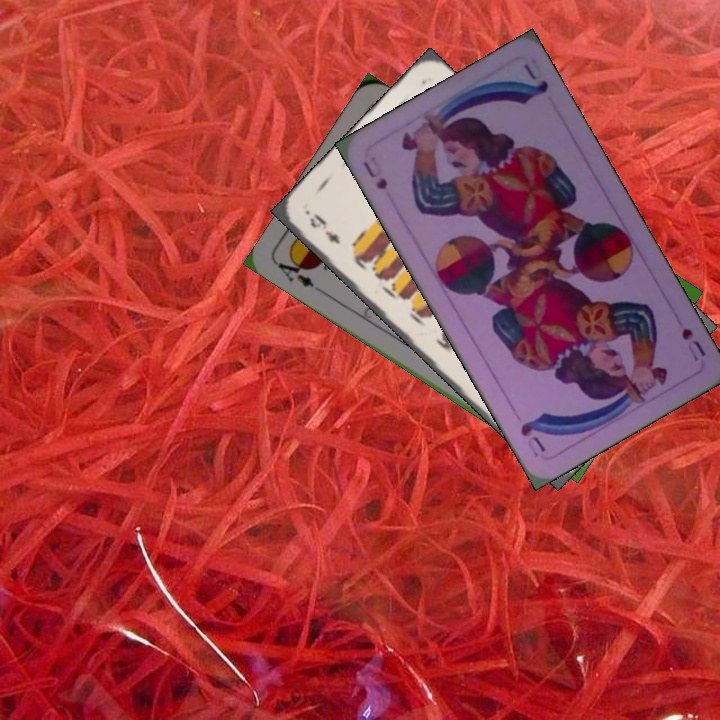E9: (305, 209, 343, 247)
EA: (272, 251, 326, 296)
SU: (677, 323, 708, 364), (359, 157, 390, 192)
